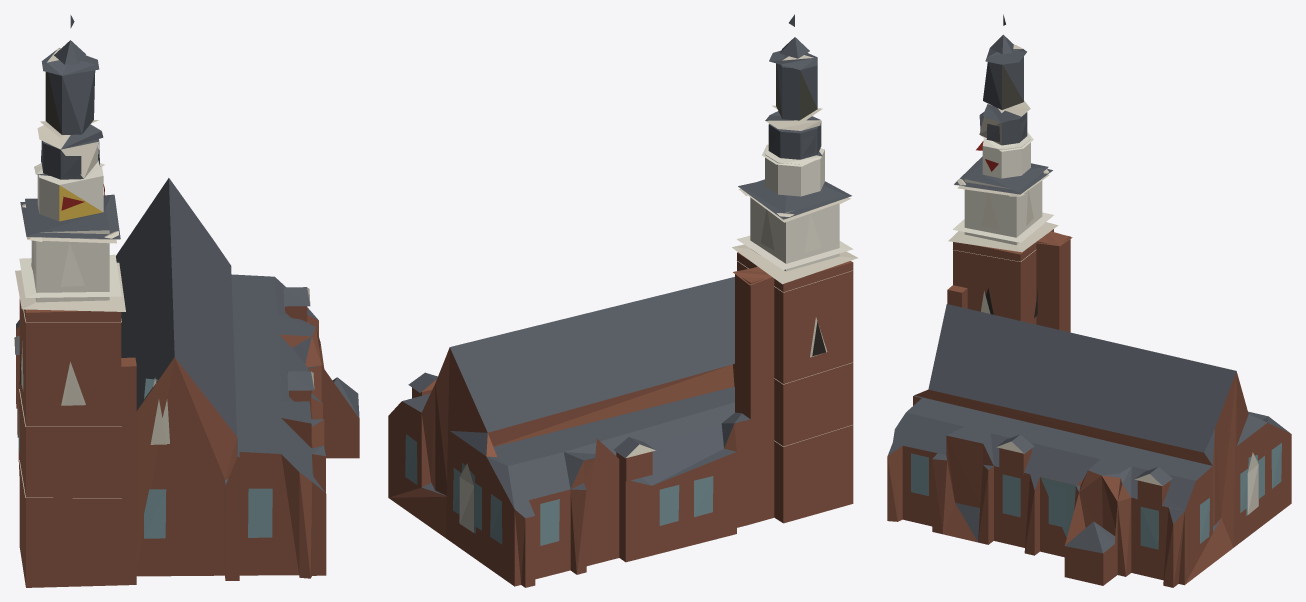
Rendered from zuiderkerk.lod2.glb.
3 views of the same model, side by side, from view 1: azimuth 30°, elevation 25°; view 2: azimuth 150°, elevation 25°; view 3: azimuth 270°, elevation 25° (orthographic). The views are drawn at different scales.
Parts seen in each view (by area): view 1: lod2; view 2: lod2; view 3: lod2.
Part boxes in pixels (x1=…): lod2: x1=14, y1=15, x2=359, y2=587; lod2: x1=388, y1=14, x2=857, y2=587; lod2: x1=887, y1=14, x2=1291, y2=587.
Bounding box in the file's own units: 47.85 × 60.65 × 50.86.
